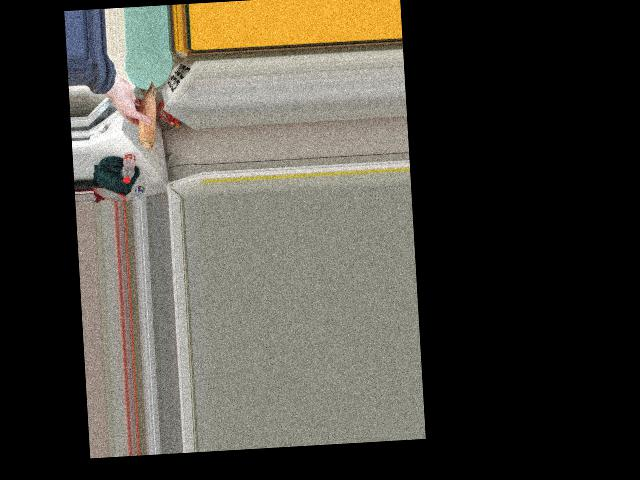sweet_potato: (138, 80, 156, 152)
